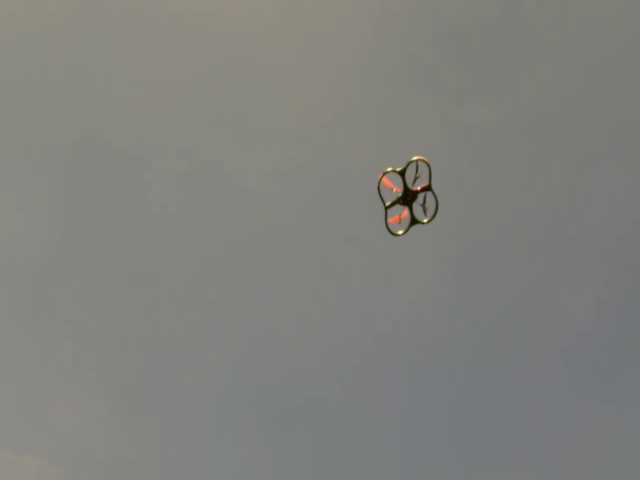drone: (376, 154, 439, 238)
